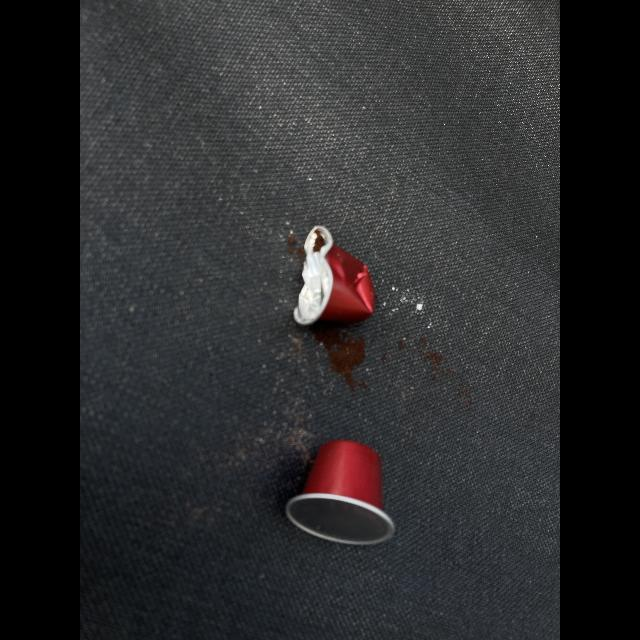damaged_capsule: (270, 213, 400, 341)
intact_capsule: (277, 421, 413, 552)
